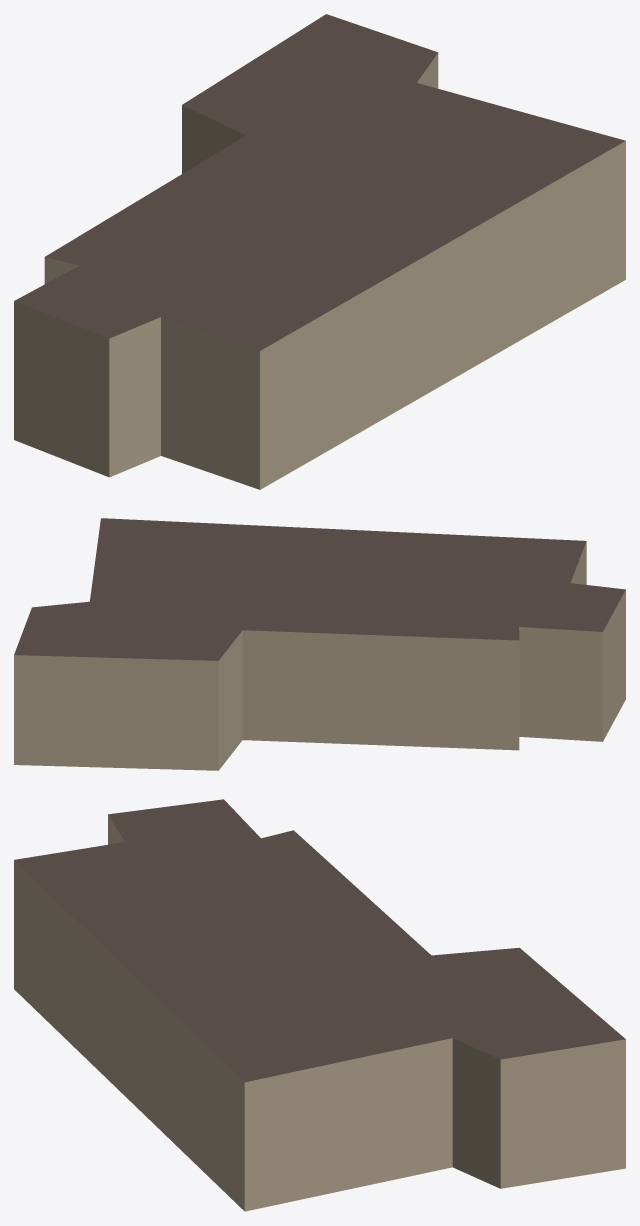
3 views of the same model, one above another, from view 1: azimuth 30°, elevation 25°; view 2: azimuth 150°, elevation 25°; view 3: azimuth 270°, elevation 25° (orthographic). The views are drawn at different scales.
Parts seen in each view (by area): view 1: HP-w1515071160; view 2: HP-w1515071160; view 3: HP-w1515071160.
Boxes of the visible parts, bbox=[...] form: HP-w1515071160: bbox=[14, 14, 625, 489]; HP-w1515071160: bbox=[14, 518, 625, 770]; HP-w1515071160: bbox=[14, 799, 625, 1211].
Size of the model in its own units: 42.25 by 9 by 38.61.
